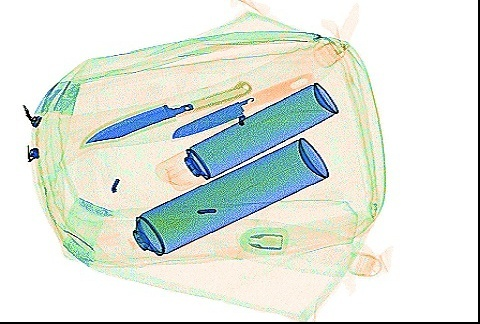knife: (76, 78, 250, 152), (168, 69, 317, 141)
pressure: (125, 135, 331, 256), (150, 80, 340, 191)
